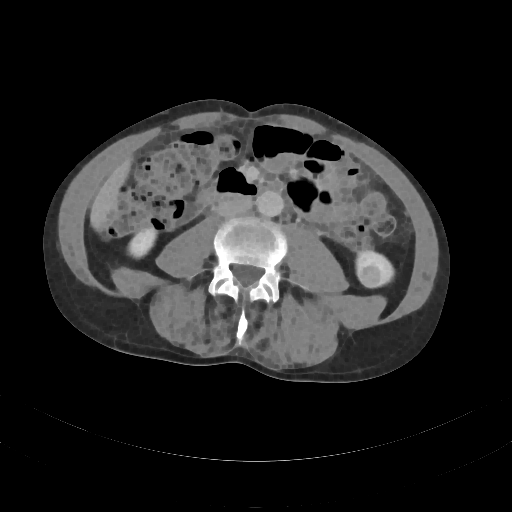Lesion: (359, 266, 381, 285)
